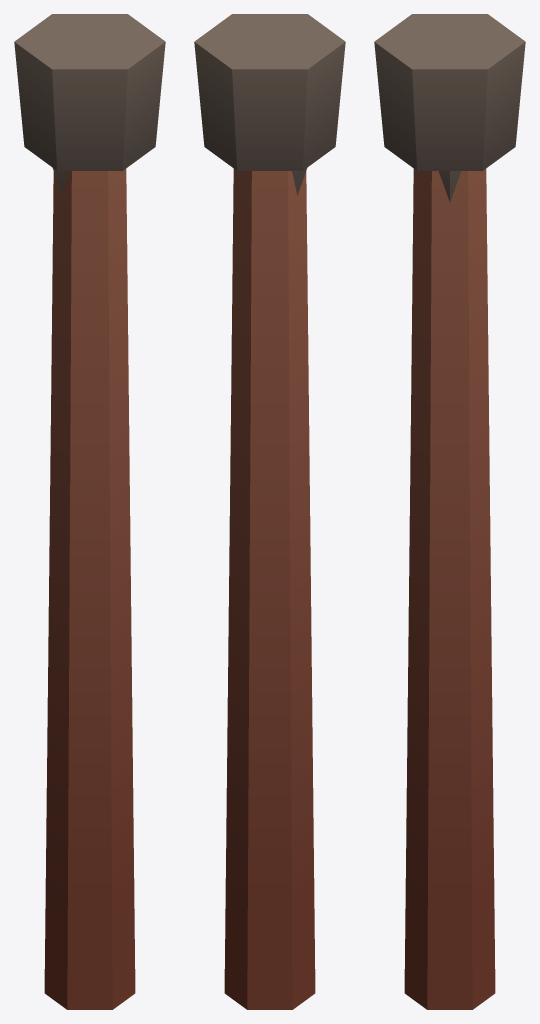
The model's file is torch_post.glb.
3 renders of one model, left to right at view 1: azimuth 30°, elevation 25°; view 2: azimuth 150°, elevation 25°; view 3: azimuth 270°, elevation 25°, orthographic.
Parts seen in each view (by area): view 1: torch_post; view 2: torch_post; view 3: torch_post.
Boxes of the visible parts, x1=… form: torch_post: x1=14, y1=14, x2=165, y2=1009; torch_post: x1=194, y1=14, x2=345, y2=1009; torch_post: x1=374, y1=14, x2=525, y2=1009.
Size of the model in its own units: 0.2598 by 2.08 by 0.3.
1 material, 1 textured.
